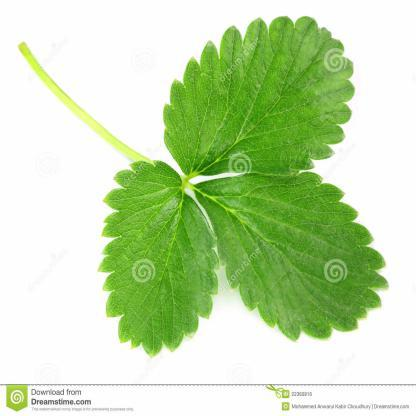Strawberry leaf: (198, 168, 393, 342), (160, 12, 356, 178), (102, 151, 220, 353)
